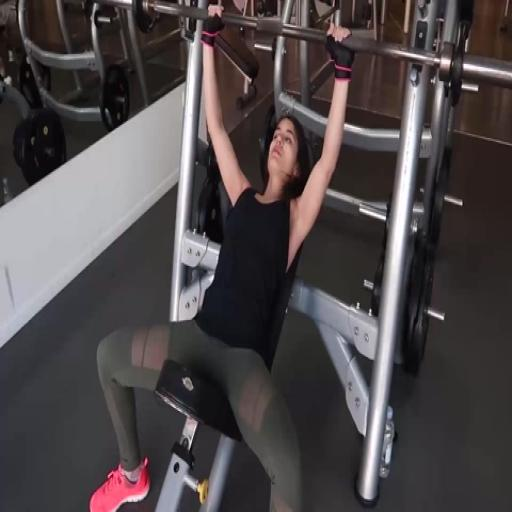exercise: (86, 2, 358, 510)
